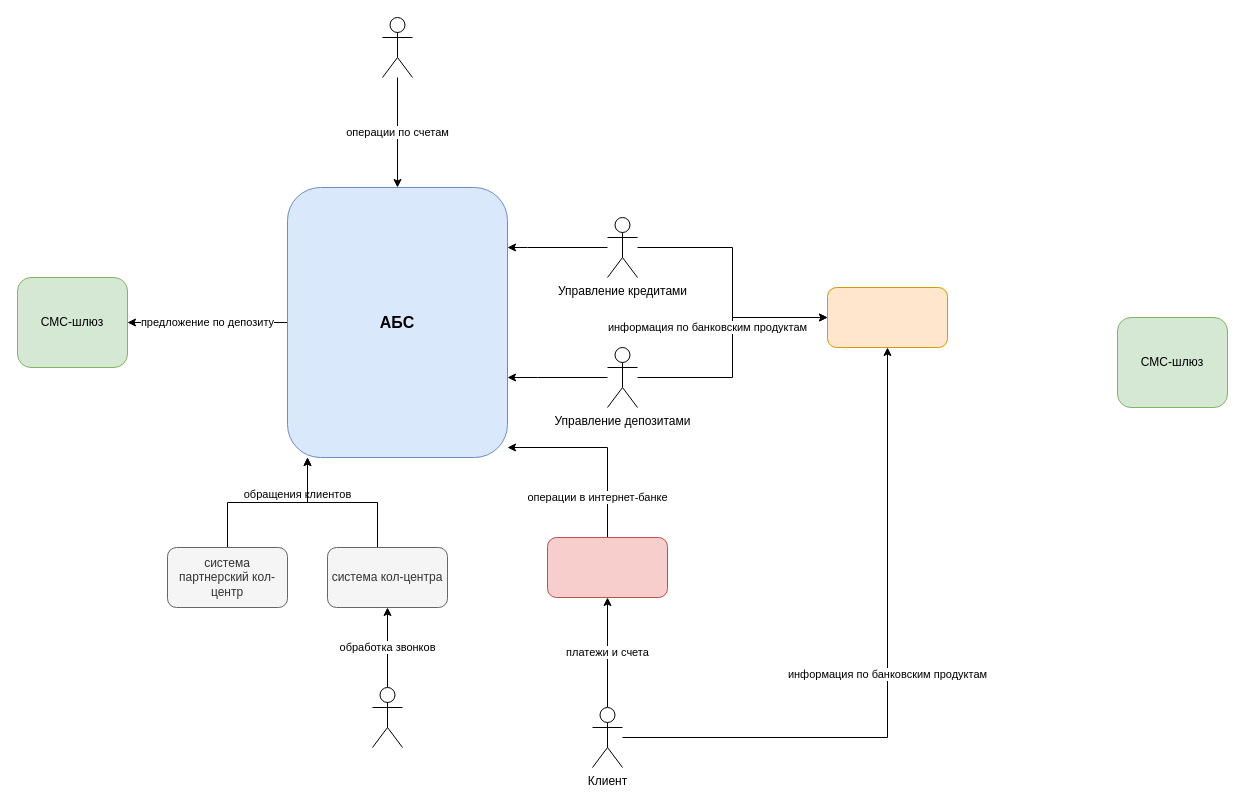
The diagram is 1245 pixels wide and 806 high, and some of its shapes have lost their labels. The box of each missing label's shape, as (x1, y1, x2, y2) in pixels:
интернет-банк: (546, 536, 668, 598)
Сайт: (826, 286, 948, 348)
сотрудник кол-центра: (372, 686, 402, 748)
Управление отделений: (382, 16, 412, 78)
